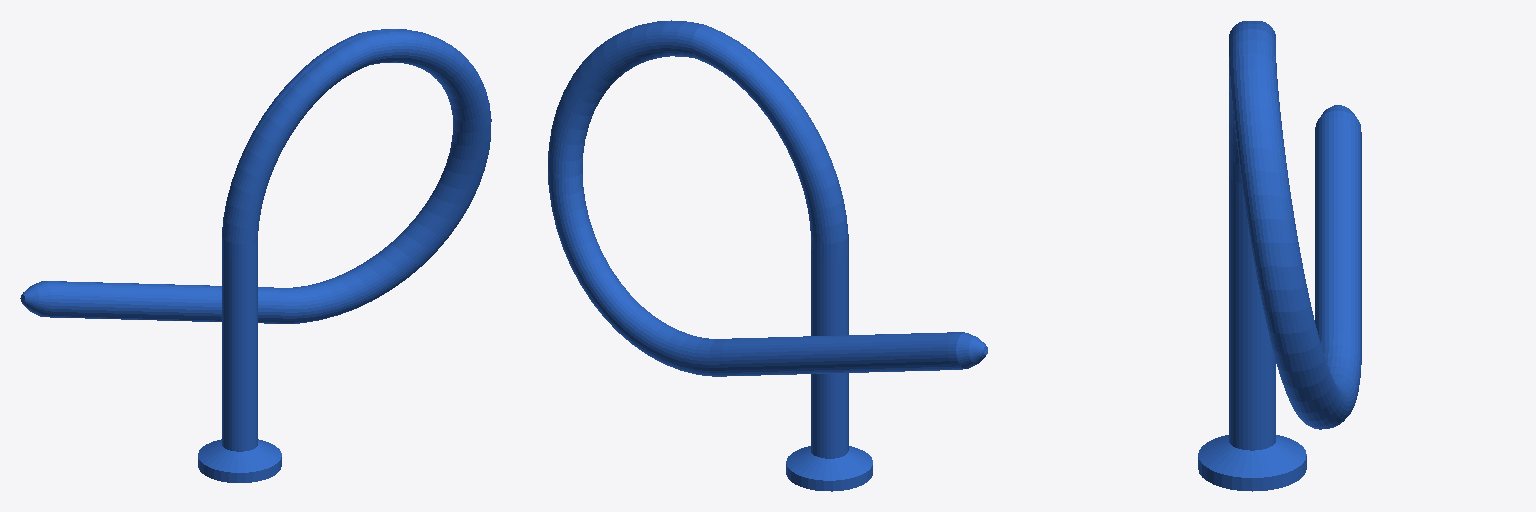
The robot description file, URDF, robot "nail_2":
<robot name="nail_2" version="1.0">
  <link name="nail_2_link">
    <collision name="geometry_0.001">
      <origin rpy="3.14159 -0.00000 0.00000" xyz="-0.35667 0.22228 0.07607"/>
      <geometry>
        <mesh filename="../meshes/obj/geometry_0.002.obj" scale="0.01000 0.01000 0.01000"/>
      </geometry>
    </collision>
    <collision name="geometry_1.001">
      <origin rpy="3.14159 -0.00000 0.00000" xyz="-0.35667 0.22228 0.07607"/>
      <geometry>
        <mesh filename="../meshes/obj/geometry_1.002.obj" scale="0.01000 0.01000 0.01000"/>
      </geometry>
    </collision>
    <collision name="geometry_10.001">
      <origin rpy="3.14159 -0.00000 0.00000" xyz="-0.35667 0.22228 0.07607"/>
      <geometry>
        <mesh filename="../meshes/obj/geometry_10.002.obj" scale="0.01000 0.01000 0.01000"/>
      </geometry>
    </collision>
    <collision name="geometry_2.001">
      <origin rpy="3.14159 -0.00000 0.00000" xyz="-0.35667 0.22228 0.07607"/>
      <geometry>
        <mesh filename="../meshes/obj/geometry_2.002.obj" scale="0.01000 0.01000 0.01000"/>
      </geometry>
    </collision>
    <collision name="geometry_3.001">
      <origin rpy="3.14159 -0.00000 0.00000" xyz="-0.35667 0.22228 0.07607"/>
      <geometry>
        <mesh filename="../meshes/obj/geometry_3.002.obj" scale="0.01000 0.01000 0.01000"/>
      </geometry>
    </collision>
    <collision name="geometry_4.001">
      <origin rpy="3.14159 -0.00000 0.00000" xyz="-0.35667 0.22228 0.07607"/>
      <geometry>
        <mesh filename="../meshes/obj/geometry_4.002.obj" scale="0.01000 0.01000 0.01000"/>
      </geometry>
    </collision>
    <collision name="geometry_5.001">
      <origin rpy="3.14159 -0.00000 0.00000" xyz="-0.35667 0.22228 0.07607"/>
      <geometry>
        <mesh filename="../meshes/obj/geometry_5.002.obj" scale="0.01000 0.01000 0.01000"/>
      </geometry>
    </collision>
    <collision name="geometry_6.001">
      <origin rpy="3.14159 -0.00000 0.00000" xyz="-0.35667 0.22228 0.07607"/>
      <geometry>
        <mesh filename="../meshes/obj/geometry_6.002.obj" scale="0.01000 0.01000 0.01000"/>
      </geometry>
    </collision>
    <collision name="geometry_7.001">
      <origin rpy="3.14159 -0.00000 0.00000" xyz="-0.35667 0.22228 0.07607"/>
      <geometry>
        <mesh filename="../meshes/obj/geometry_7.002.obj" scale="0.01000 0.01000 0.01000"/>
      </geometry>
    </collision>
    <collision name="geometry_8.001">
      <origin rpy="3.14159 -0.00000 0.00000" xyz="-0.35667 0.22228 0.07607"/>
      <geometry>
        <mesh filename="../meshes/obj/geometry_8.002.obj" scale="0.01000 0.01000 0.01000"/>
      </geometry>
    </collision>
    <collision name="geometry_9.001">
      <origin rpy="3.14159 -0.00000 0.00000" xyz="-0.35667 0.22228 0.07607"/>
      <geometry>
        <mesh filename="../meshes/obj/geometry_9.002.obj" scale="0.01000 0.01000 0.01000"/>
      </geometry>
    </collision>
    <inertial>
      <inertia ixx="0.00037" ixy="0.00001" ixz="-0.00016" iyy="0.00070" iyz="0.00002" izz="0.00037"/>
      <origin rpy="0.00000 0.00000 0.00000" xyz="-0.31492 0.23664 0.12053"/>
      <mass value="0.10000"/>
    </inertial>
    <visual name="Nail_Puzzle-Nail.001">
      <material name="turnarrow"/>
      <origin rpy="3.14159 -0.00000 0.00000" xyz="-0.35667 0.22228 0.07607"/>
      <geometry>
        <mesh filename="../meshes/obj/Nail_Puzzle-Nail.006.obj" scale="0.01000 0.01000 0.01000"/>
      </geometry>
    </visual>
  </link>
  <material name="turnarrow">
    <color rgba="0.23137 0.44706 0.80000 1.00000"/>
  </material>
</robot>

--- Render facts (derived) ---
3 views of the same robot in one strip: view 1: azimuth 30°, elevation 25°; view 2: azimuth 150°, elevation 25°; view 3: azimuth 270°, elevation 25° (orthographic).
Robot: nail_2 — 1 links, 0 joints (none); root link nail_2_link; default pose: all joints at 0.
Visible links, largest first — view 1: nail_2_link; view 2: nail_2_link; view 3: nail_2_link.
Link boxes in pixels (x1,y1,x2,y2): nail_2_link: (20, 29, 491, 482); nail_2_link: (548, 20, 987, 491); nail_2_link: (1198, 21, 1361, 491).
Size in the robot's own frame: 0.2807 by 0.0693 by 0.242 metres.
Meshes: 1 distinct files referenced, 1 mesh visuals loaded (1 OBJ).